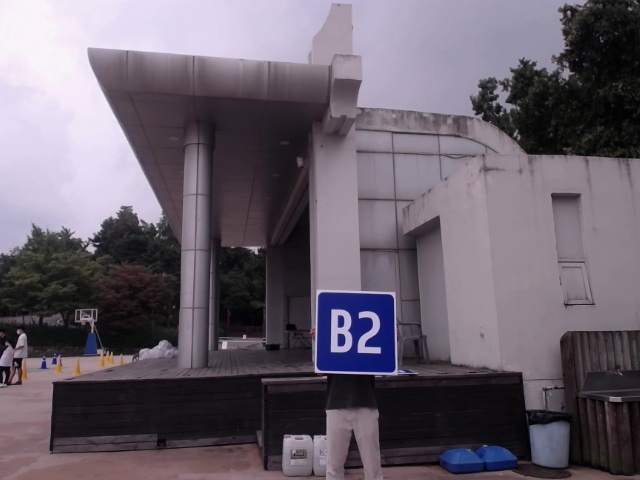delivery_b2: (316, 290, 397, 375)
